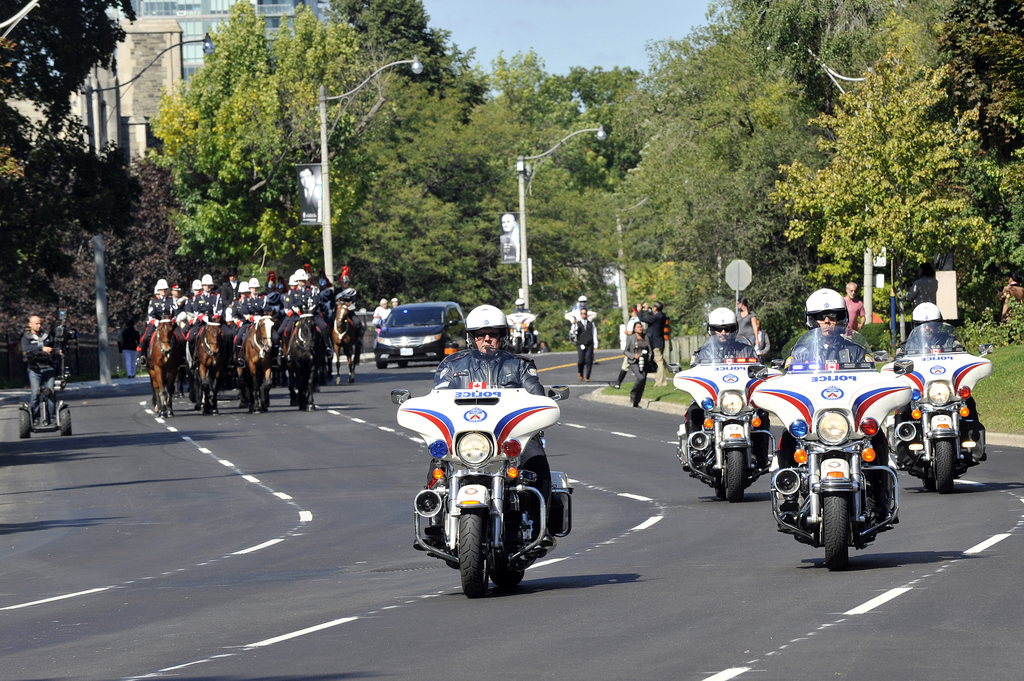Car: (371, 301, 468, 369)
